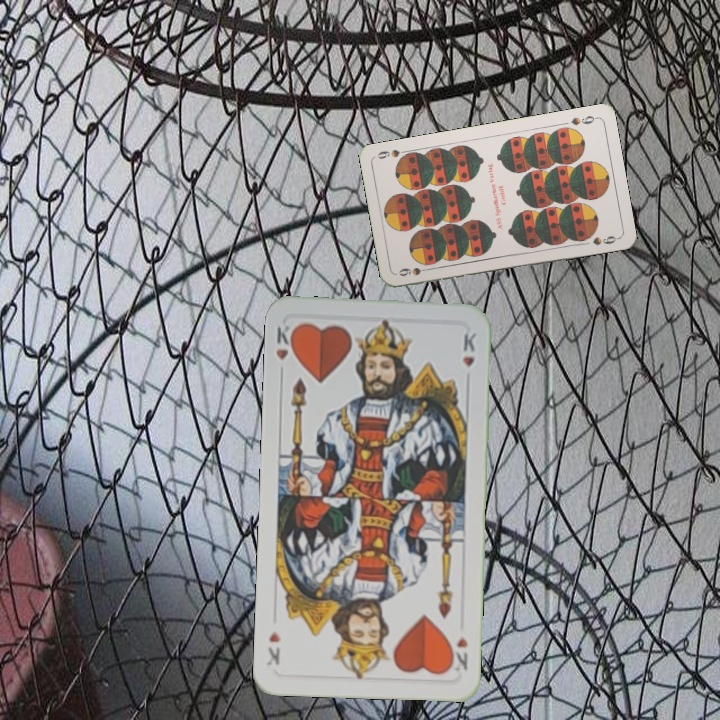HK: (271, 320, 298, 379), (445, 633, 471, 675)
S9: (395, 263, 435, 279), (567, 112, 600, 128)
